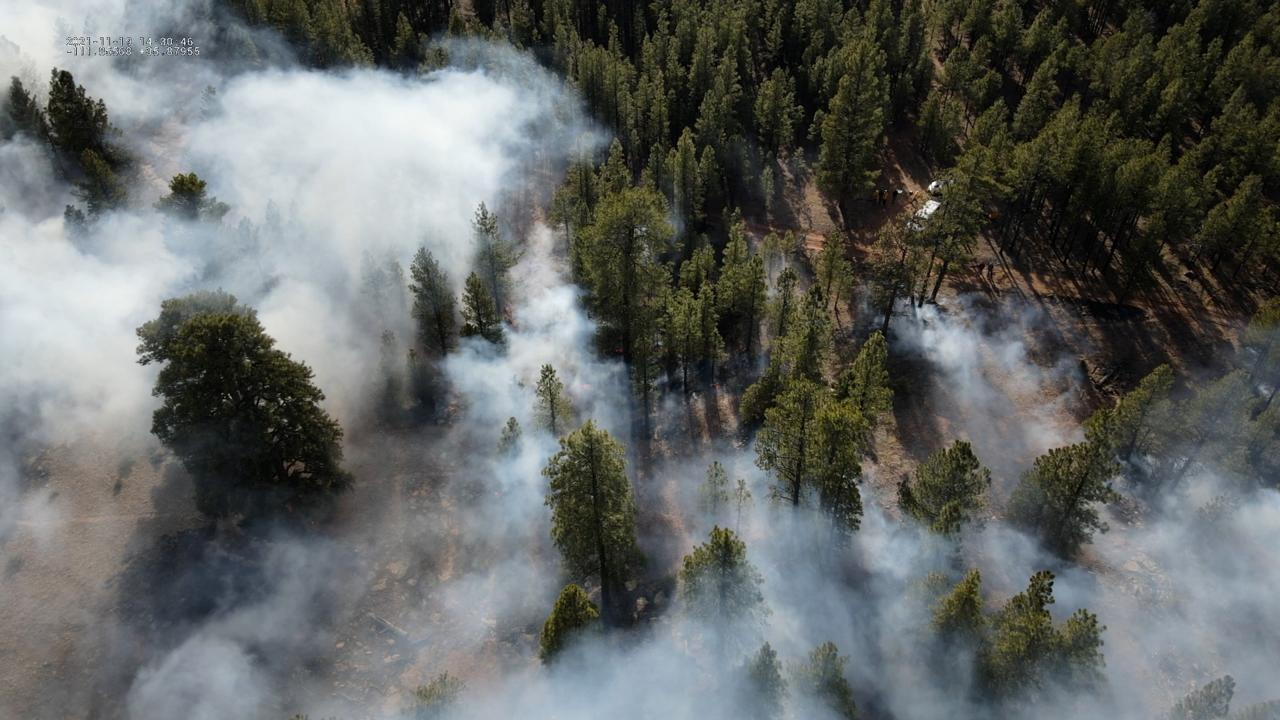fire: (987, 213, 993, 219)
smoke: (0, 0, 1280, 720)
